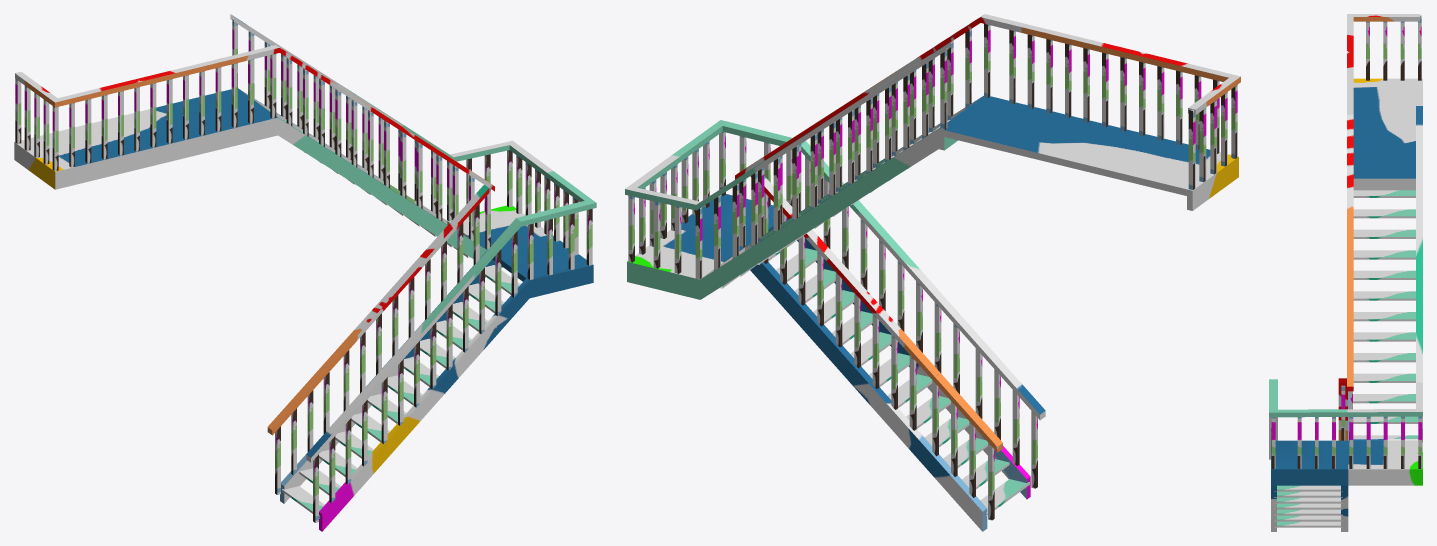
The model's file is staircase.fbx.
The picture shows the model from 3 angles, left to right: view 1: azimuth 30°, elevation 25°; view 2: azimuth 150°, elevation 25°; view 3: azimuth 270°, elevation 25°; orthographic projection. The views are drawn at different scales.
Visible parts, largest first — view 1: polySurface369; view 2: polySurface369; view 3: polySurface369.
Boxes of the visible parts, bbox=[...] form: polySurface369: bbox=[14, 14, 596, 531]; polySurface369: bbox=[625, 14, 1240, 531]; polySurface369: bbox=[1269, 14, 1422, 531].
Bounding box in the file's own units: 30.7 × 27.02 × 8.94.
